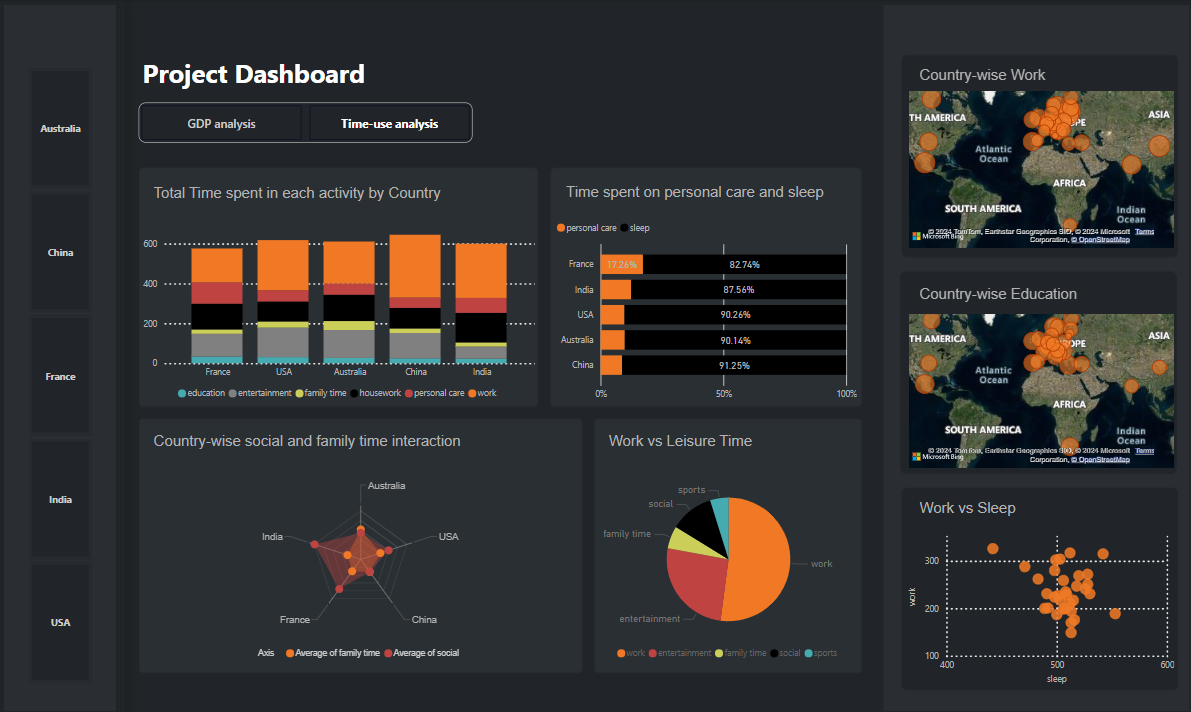

This screenshot's page, from the dashboard's own definition file:
{"tool":"powerbi","page":{"name":"Time-use analysis","canvas":[1500,900],"ordinal":1},"visuals":[{"type":"textbox","box":[177.1,67,299.1,63.6],"z":0},{"type":"pageNavigator","box":[177.1,130.7,417.7,49.9],"z":1000},{"type":"textbox","box":[190.8,538.1,462.4,32.7],"z":2000},{"type":"textbox","box":[759.8,538.1,319.8,36.1],"z":3000},{"type":"textbox","box":[706.5,226.9,361,32.7],"z":4000},{"type":"textbox","box":[191.4,228.6,474.3,31.4],"z":5000},{"type":"columnChart","fields":{"Category":["minutes.country"],"Y":["Avg(minutes.education)","Avg(minutes.entertainment)","Avg(minutes.family time)","Avg(minutes.housework)","Avg(minutes.personal care)","Sum(minutes.work)"]},"box":[177.1,268.2,500.3,244.1],"z":6000},{"type":"map","fields":{"Category":["minutes.country"],"Size":["Avg(minutes.work)"]},"box":[1134.6,111.7,342.1,206.3],"z":7000},{"type":"pieChart","fields":{"Y":["Sum(minutes.work)","Sum(minutes.entertainment)","Sum(minutes.family time)","Sum(minutes.social)","Sum(minutes.sports)"]},"box":[749.5,593.1,330.1,244.1],"z":8000},{"type":"hundredPercentStackedBarChart","title":"How people spend their time","fields":{"Category":["minutes.country"],"Y":["Sum(minutes.personal care)","Sum(minutes.sleep)"]},"box":[694.5,268.2,385.1,244.1],"z":9000},{"type":"map","fields":{"Category":["minutes.country"],"Size":["Sum(minutes.education)"]},"box":[1134.6,390.2,342.1,202.9],"z":10000},{"type":"scatterChart","fields":{"X":["Sum(minutes.sleep)"],"Y":["Sum(minutes.work)"],"Category":["minutes.country"]},"box":[1134.6,660.1,342.1,202.9],"z":11000},{"type":"slicer","fields":{"Values":["minutes.country"]},"box":[13.8,80.8,128.9,782.2],"z":12000},{"type":"RadarChart1446119667547","fields":{"Category":["minutes.country"],"Y":["Avg(minutes.family time)","Avg(minutes.social)"]},"box":[177.1,593.1,555.3,244.1],"z":13000},{"type":"textbox","box":[1148.4,354.1,232.1,36.1],"z":14000},{"type":"textbox","box":[1148.4,80.8,230.4,37.8],"z":15000},{"type":"textbox","box":[1148.4,622.3,139.2,37.8],"z":16000}]}

Visuals, with their boxes in screenshot pixels (x1, y1, x2, y2), scaled from the page's 1500x900 canvas onto the 1191x712 screenshot:
textbox: crop(141, 53, 378, 103)
pageNavigator: crop(141, 103, 472, 143)
textbox: crop(151, 426, 519, 452)
textbox: crop(603, 426, 857, 454)
textbox: crop(561, 180, 848, 205)
textbox: crop(152, 181, 529, 206)
columnChart - minutes.country x Avg(minutes.education): crop(141, 212, 538, 405)
map - minutes.country x Avg(minutes.work): crop(901, 88, 1172, 252)
pieChart - Sum(minutes.work) x Sum(minutes.entertainment): crop(595, 469, 857, 662)
"How people spend their time" hundredPercentStackedBarChart: crop(551, 212, 857, 405)
map - minutes.country x Sum(minutes.education): crop(901, 309, 1172, 469)
scatterChart - Sum(minutes.sleep) x Sum(minutes.work): crop(901, 522, 1172, 683)
slicer - minutes.country: crop(11, 64, 113, 683)
RadarChart1446119667547 - minutes.country x Avg(minutes.family time): crop(141, 469, 582, 662)
textbox: crop(912, 280, 1096, 309)
textbox: crop(912, 64, 1095, 94)
textbox: crop(912, 492, 1022, 522)
